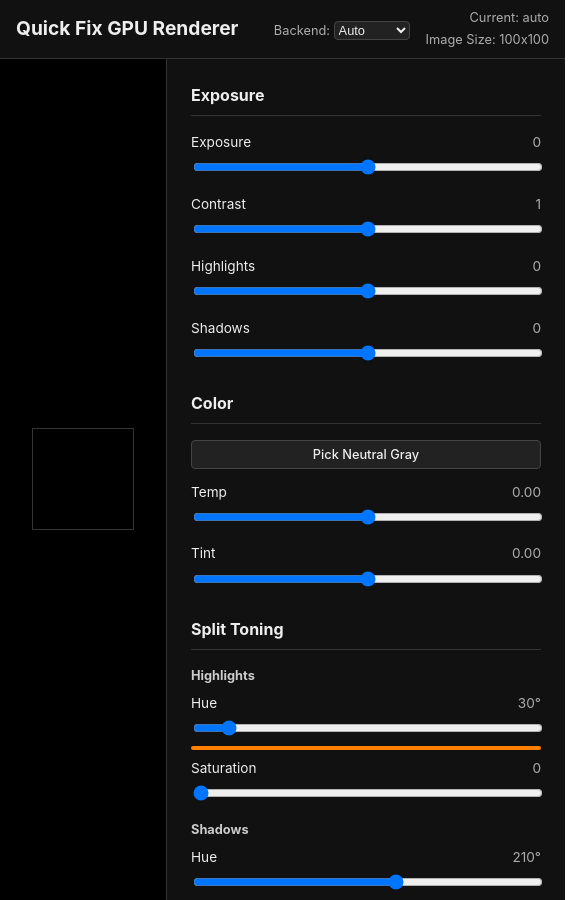
Test: App Integration › renders and allows picking white balance
Expected: the text "Backend:" is shown, [274,23,334,38]
Expected: the text "Image Size: 100x100" is shown, [426,30,549,50]
// Click the button to enable picker mode
What coordinates should you click on to do the following:
click the button "Pick Neutral Gray"
I would click on:
 (366, 454)
Its box is [191,440,541,469].
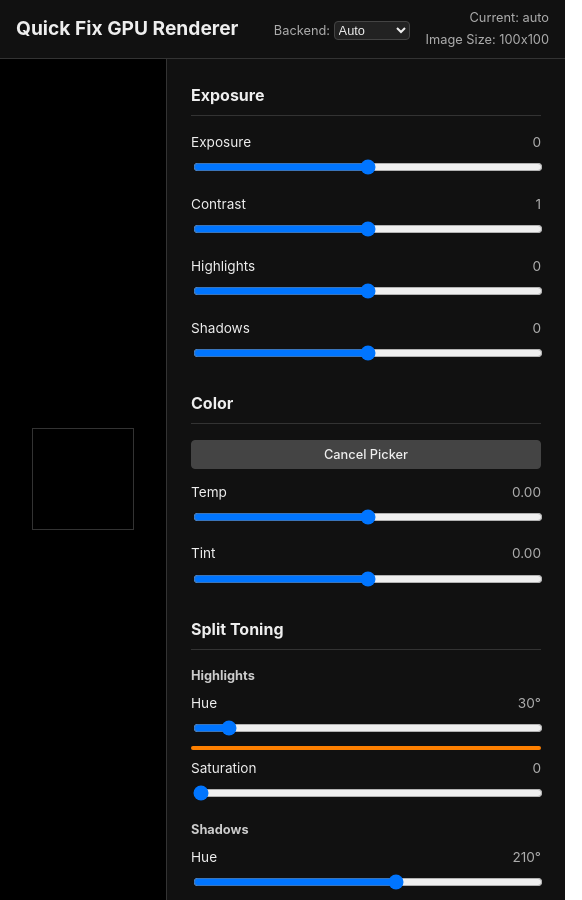
Expected: the button "Pick Neutral Gray" reads "Cancel Picker", [191,440,541,469]
What coordinates should you click on to do the following:
click the drawing
I would click on:
 (83, 479)
Its box is [32,428,134,530].
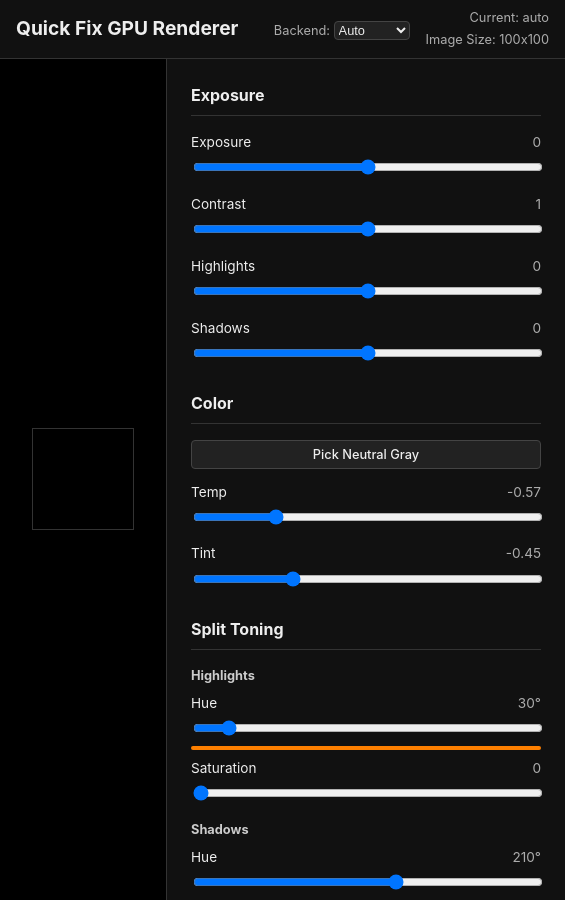
Expected: the button "Pick Neutral Gray" is shown, [191,440,541,469]
